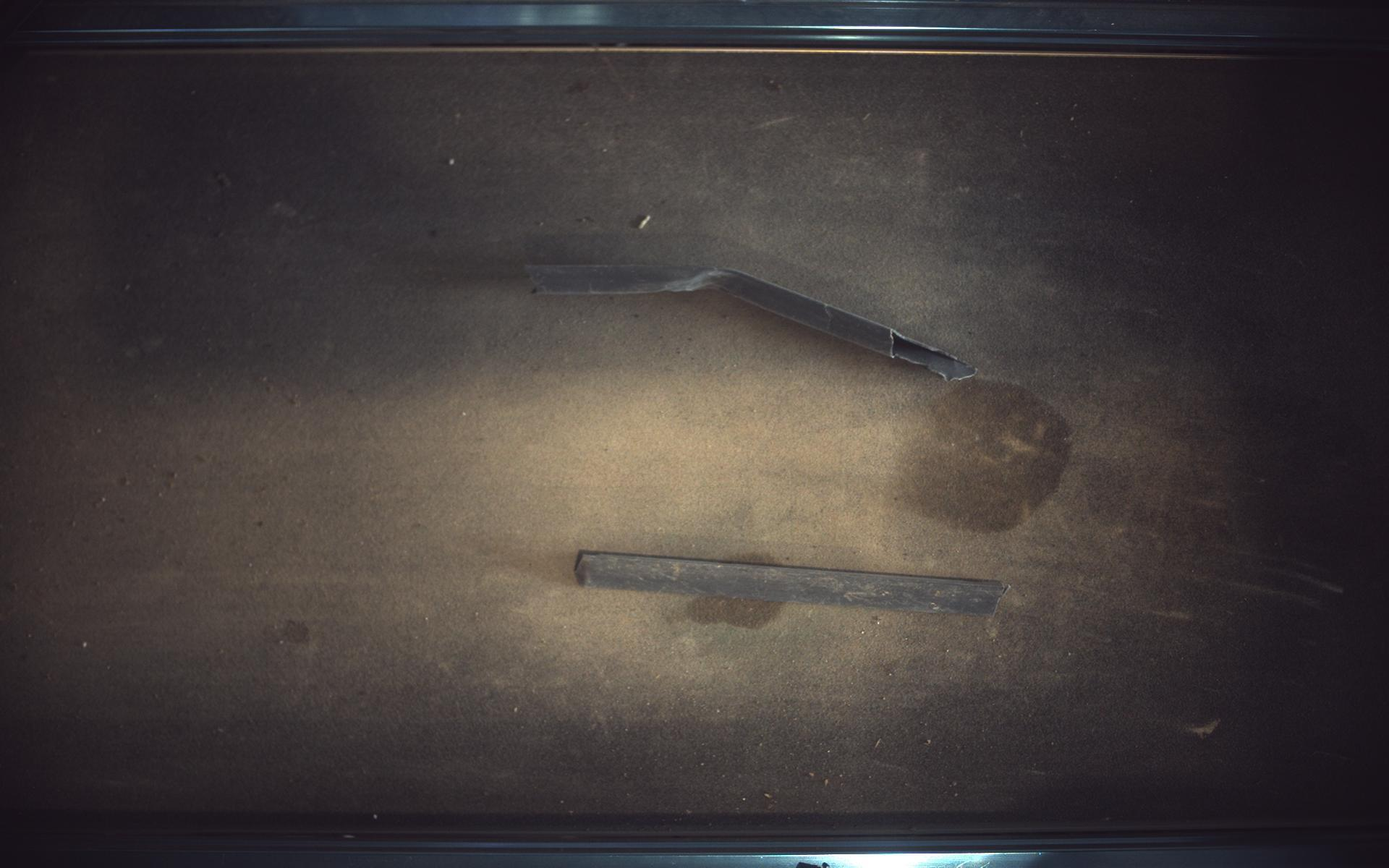plastic: (527, 264, 979, 380), (576, 551, 1011, 616)
